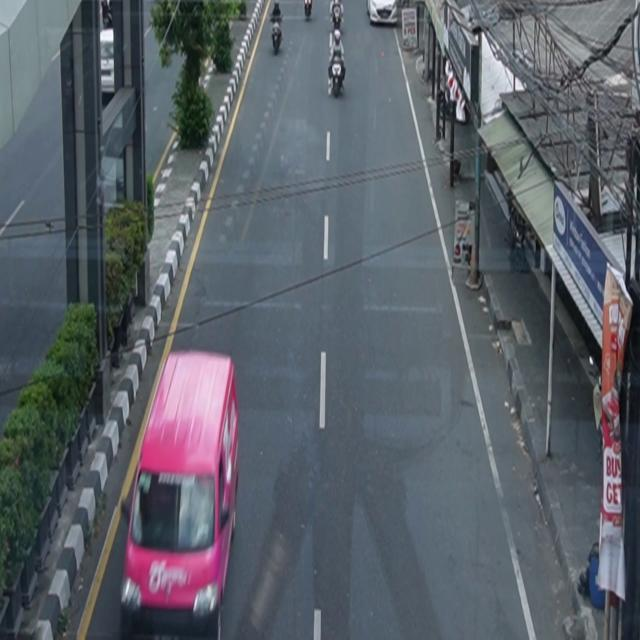bus: (121, 350, 241, 639)
car: (100, 29, 116, 95), (367, 1, 398, 26)
